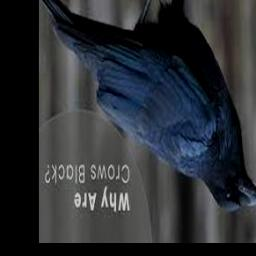Crow: (40, 0, 256, 211)
